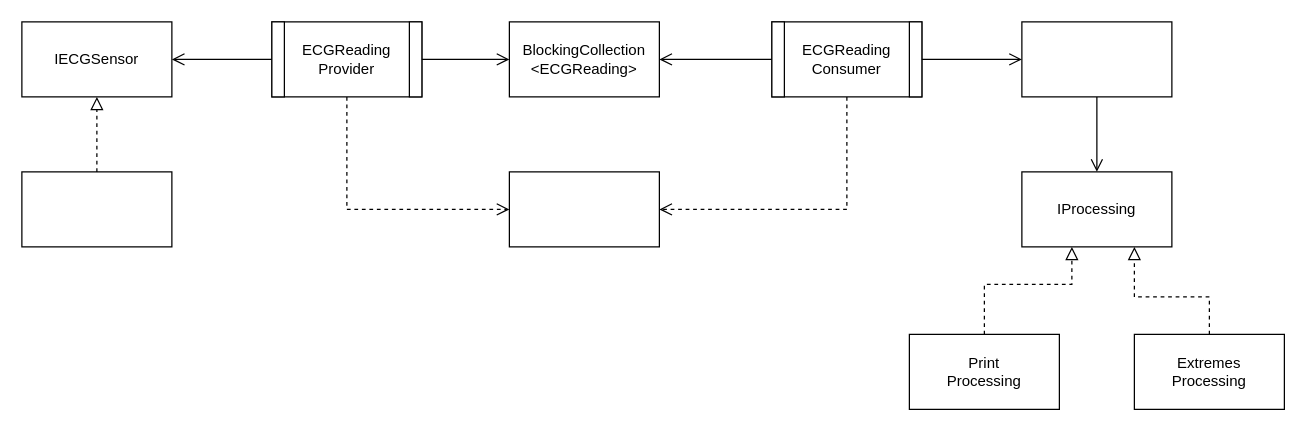
Some shapes in this 1306 by 431 pixel diagram are drawn without their labels. The box of each missing label's shape, as (x1, y1, x2, y2) in pixels:
ECGContainer: (1021, 21, 1172, 97)
ECGReading: (508, 171, 659, 247)
ECGSensor: (21, 171, 172, 247)
